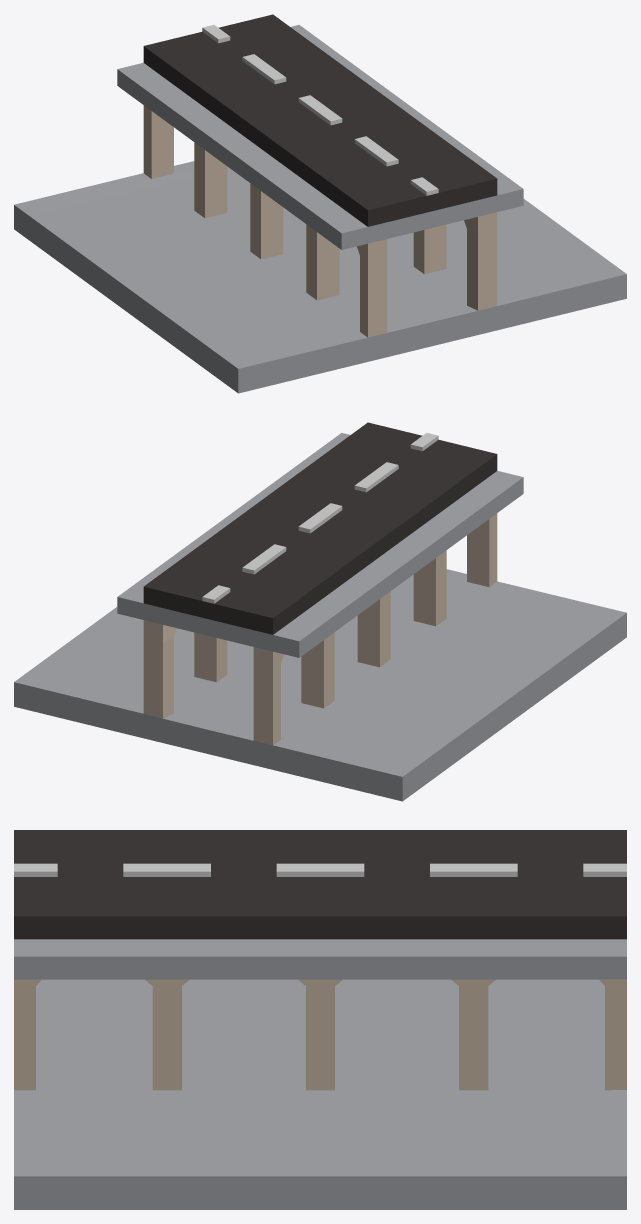
File: Street_Bridge.glb
3 views of the same model, one above another, from view 1: azimuth 30°, elevation 25°; view 2: azimuth 150°, elevation 25°; view 3: azimuth 270°, elevation 25° (orthographic). The views are drawn at different scales.
Parts seen in each view (by area): view 1: Street_Bridge; view 2: Street_Bridge; view 3: Street_Bridge.
Part boxes in pixels (box(x1,y1,x2,y2)): Street_Bridge: box(14, 14, 626, 393); Street_Bridge: box(14, 422, 626, 801); Street_Bridge: box(14, 830, 626, 1209).
Size of the model in its own units: 2 by 0.7659 by 2.
